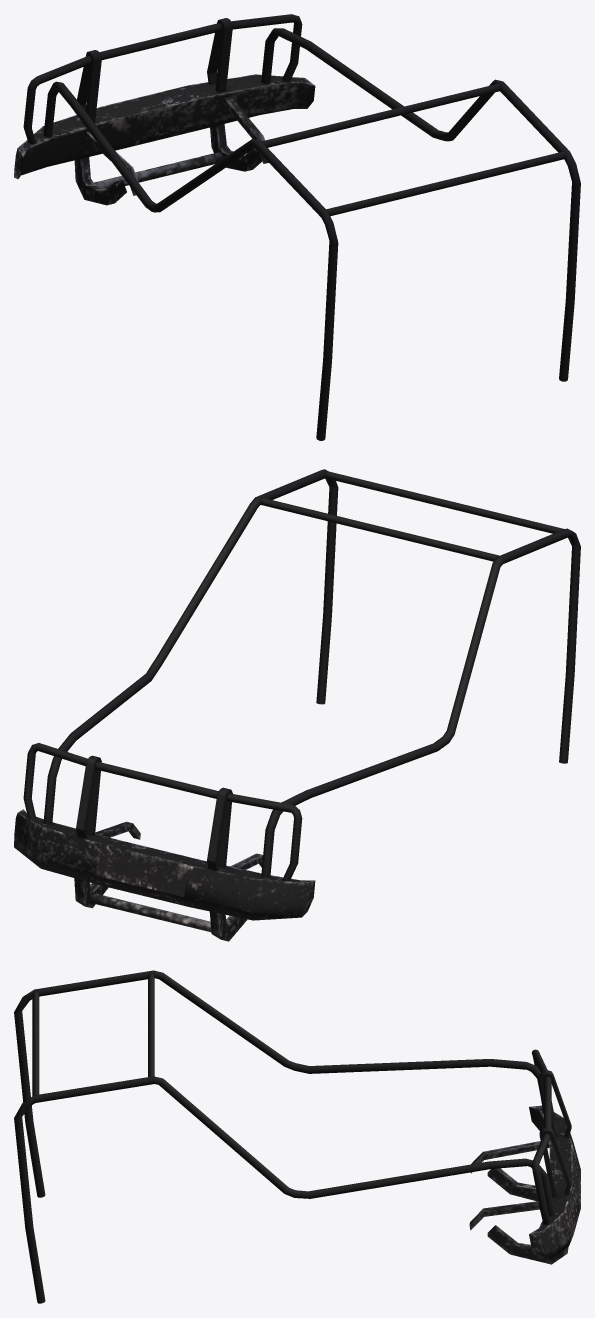
Rendered from FJ75Bullbar_WorldItem.fbx.
3 views of the same model, one above another, from view 1: azimuth 30°, elevation 25°; view 2: azimuth 150°, elevation 25°; view 3: azimuth 270°, elevation 25° (orthographic). The views are drawn at different scales.
Parts seen in each view (by area): view 1: ArmorFront_obj; view 2: ArmorFront_obj; view 3: ArmorFront_obj.
Boxes of the visible parts, x1,y1,x2,y2 form: ArmorFront_obj: [14, 14, 580, 440]; ArmorFront_obj: [14, 469, 580, 941]; ArmorFront_obj: [14, 970, 580, 1303].
Bounding box in the file's own units: 2.68 × 2.16 × 4.91.
